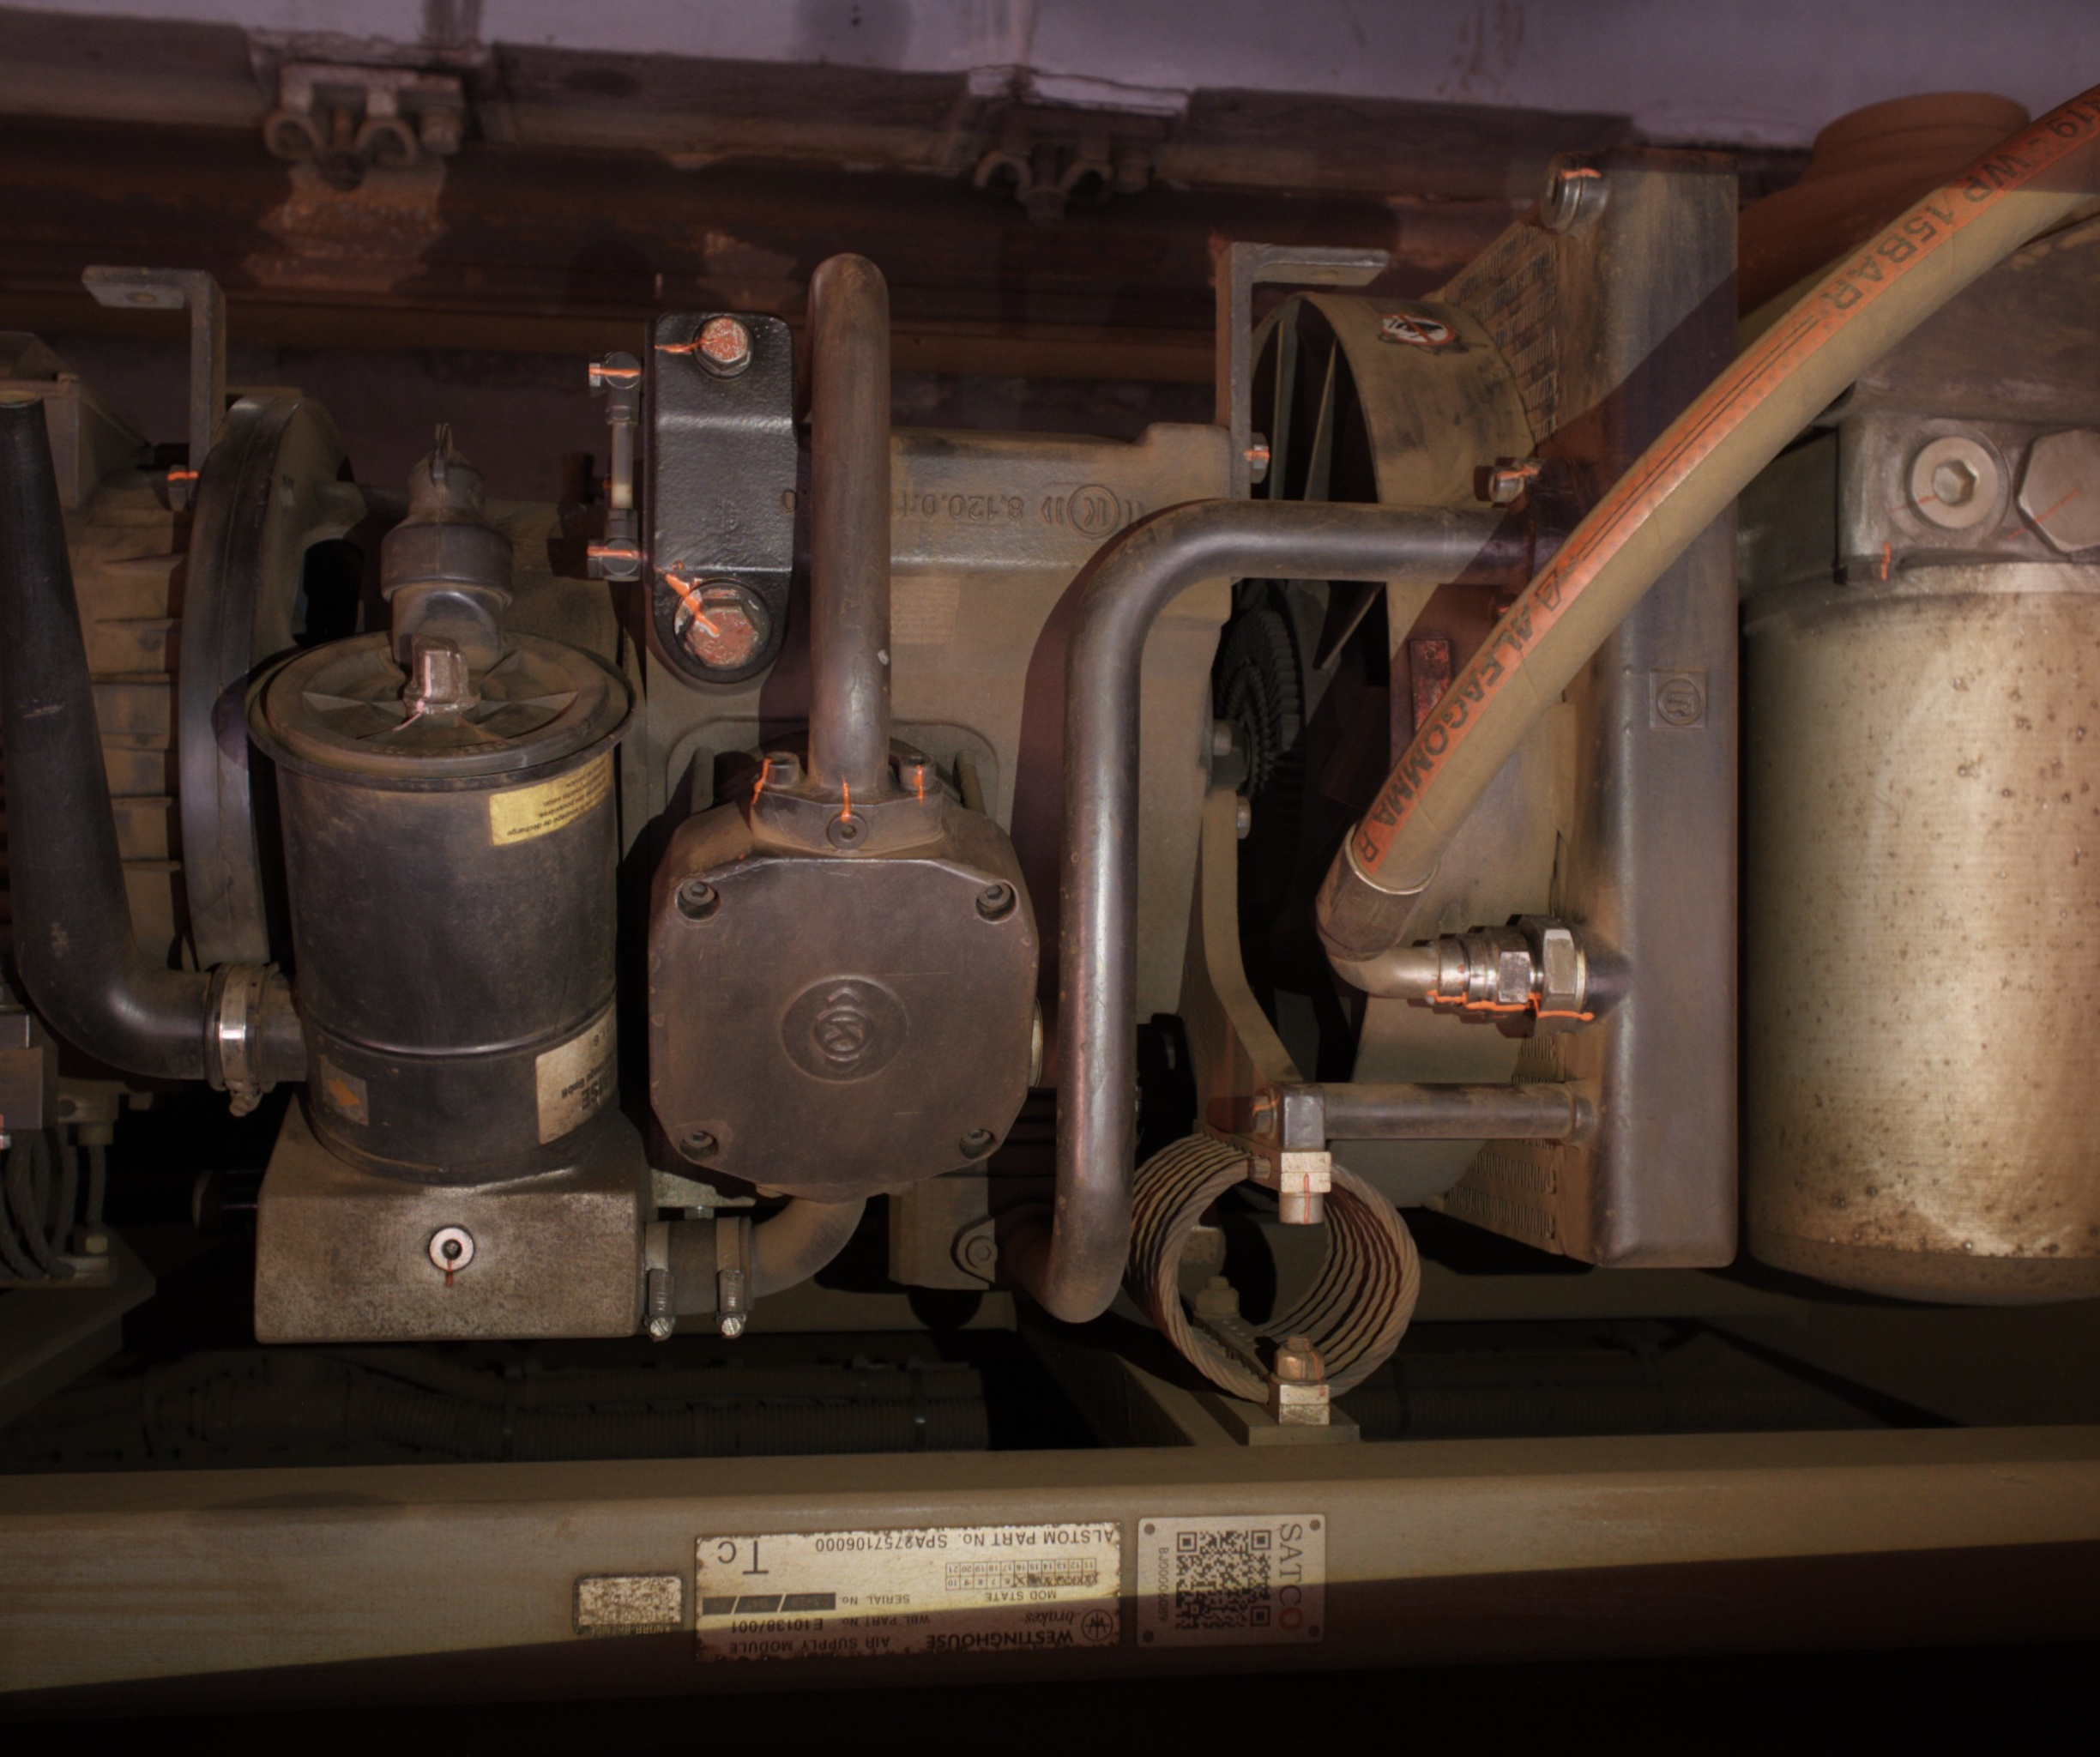ls01: (565, 525, 654, 583), (689, 314, 755, 377), (572, 347, 659, 393), (818, 808, 869, 855), (760, 747, 801, 790), (893, 754, 933, 797), (1245, 431, 1272, 485)
lsc: (1263, 1092, 1340, 1227), (1266, 1330, 1331, 1439)
lsdt: (1411, 902, 1610, 1035)
lsp: (670, 574, 767, 675)
